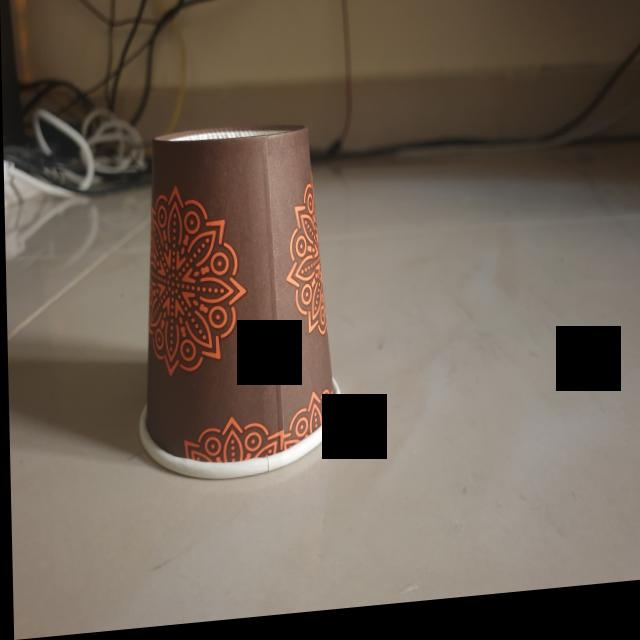cups: (131, 111, 348, 501)
